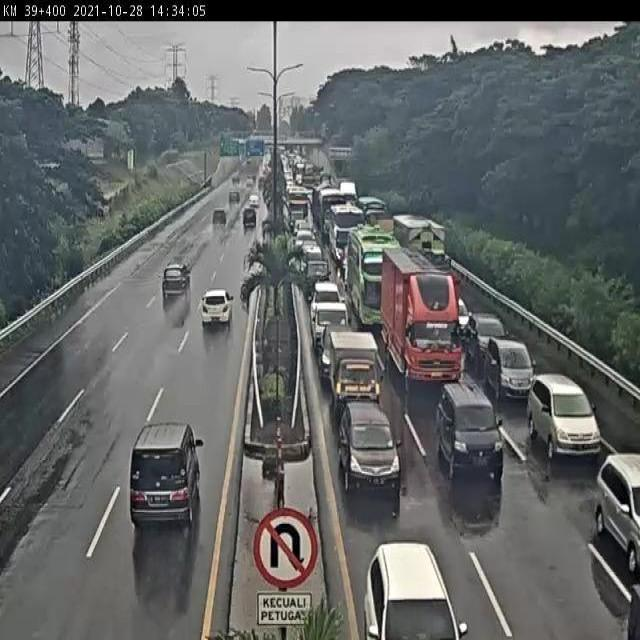bus-l-: (347, 227, 400, 320), (330, 206, 364, 266), (315, 188, 349, 239)
car: (362, 540, 469, 640), (128, 423, 205, 528), (529, 364, 604, 461), (335, 406, 403, 502), (433, 380, 500, 476), (585, 445, 640, 535), (322, 328, 384, 405), (488, 339, 533, 401), (309, 296, 350, 352), (466, 313, 508, 360), (200, 288, 234, 328), (298, 258, 330, 298), (162, 264, 193, 297), (447, 293, 470, 335), (296, 238, 320, 266), (312, 278, 340, 302)
truck-l-: (380, 247, 459, 393), (392, 212, 456, 284)
